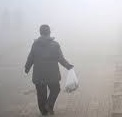person: (24, 24, 75, 117)
